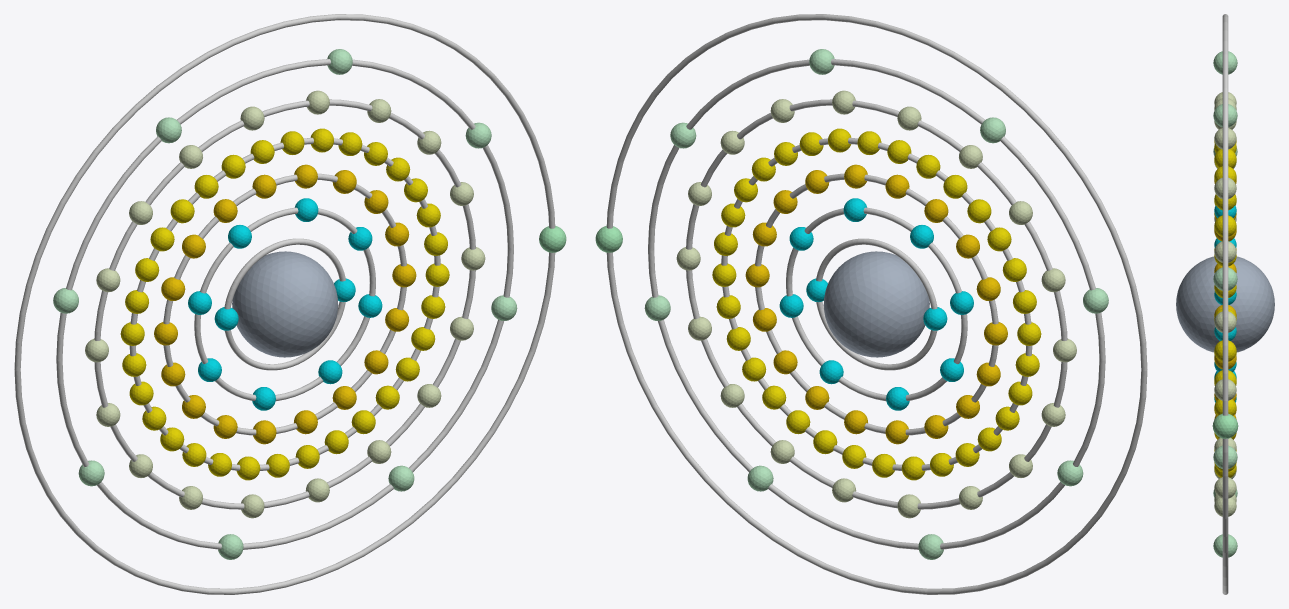
The picture shows the model from 3 angles, left to right: view 1: azimuth 30°, elevation 25°; view 2: azimuth 150°, elevation 25°; view 3: azimuth 270°, elevation 25°; orthographic projection. The views are drawn at different scales.
Visible parts, largest first — view 1: world; view 2: world; view 3: world.
Part boxes in pixels (x1=…): world: x1=14, y1=14, x2=566, y2=594; world: x1=595, y1=14, x2=1147, y2=594; world: x1=1176, y1=14, x2=1274, y2=594.
Size of the model in its own units: 2.63 by 2.59 by 0.44.
